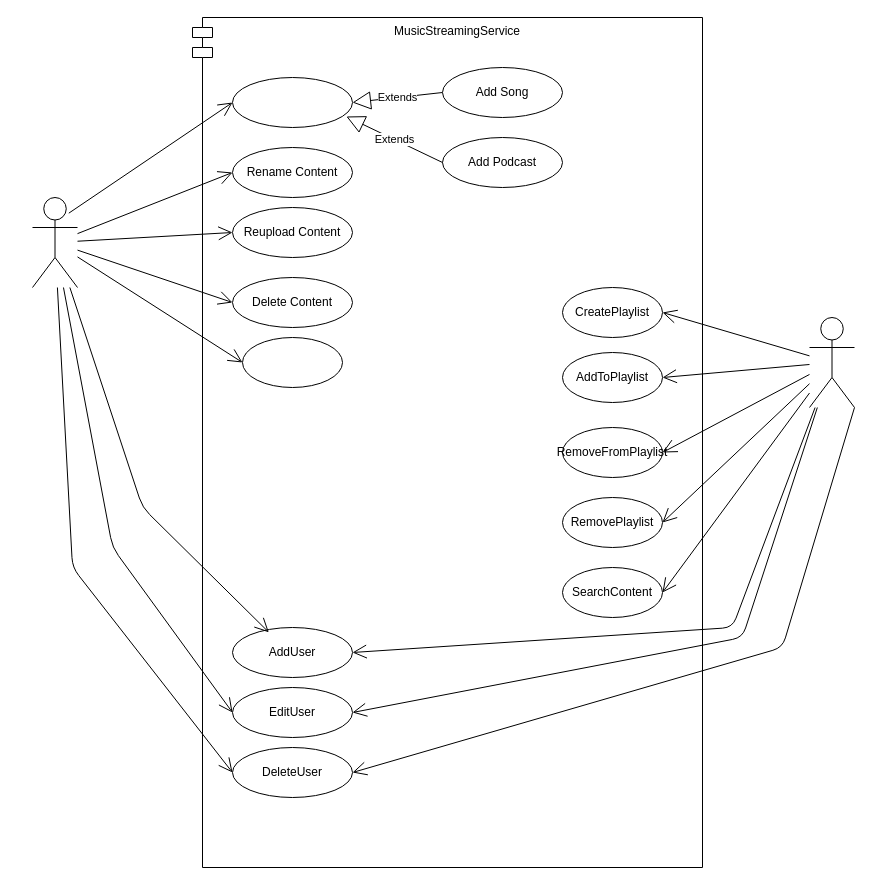
The diagram is 889 pixels wide and 885 high, and some of its shapes have lost their labels. The box of each missing label's shape, as (x1, y1, x2, y2) in pixels:
Add Content: (232, 76, 352, 128)
ContentMaker: (32, 196, 78, 288)
SetPublicType: (242, 336, 342, 388)
User (Listener): (808, 316, 854, 408)
